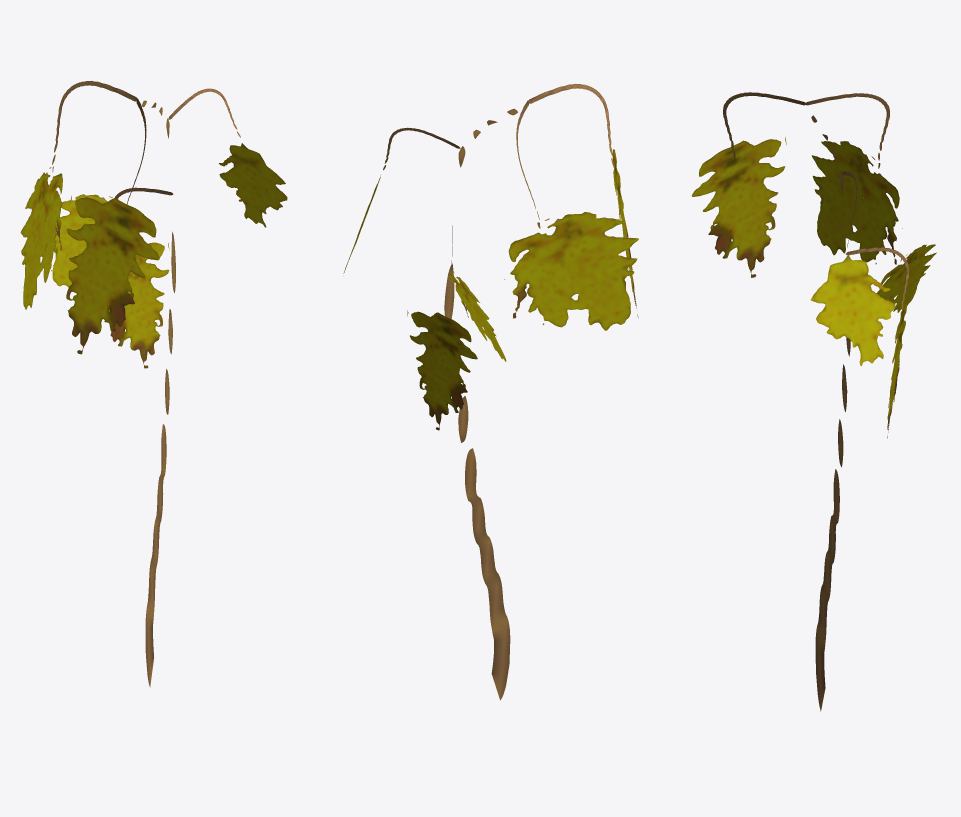
Rendered from Spin Reef Flower A1.fbx.
3 renders of one model, left to right at view 1: azimuth 30°, elevation 25°; view 2: azimuth 150°, elevation 25°; view 3: azimuth 270°, elevation 25°, orthographic.
Visible parts, largest first — view 1: Spin Reef Flower A1; view 2: Spin Reef Flower A1; view 3: Spin Reef Flower A1.
Boxes of the visible parts, x1,y1,x2,y2 form: Spin Reef Flower A1: (20,81,287,687); Spin Reef Flower A1: (343,83,638,700); Spin Reef Flower A1: (692,92,936,711).
Size of the model in its own units: 74.74 by 190 by 56.62.
